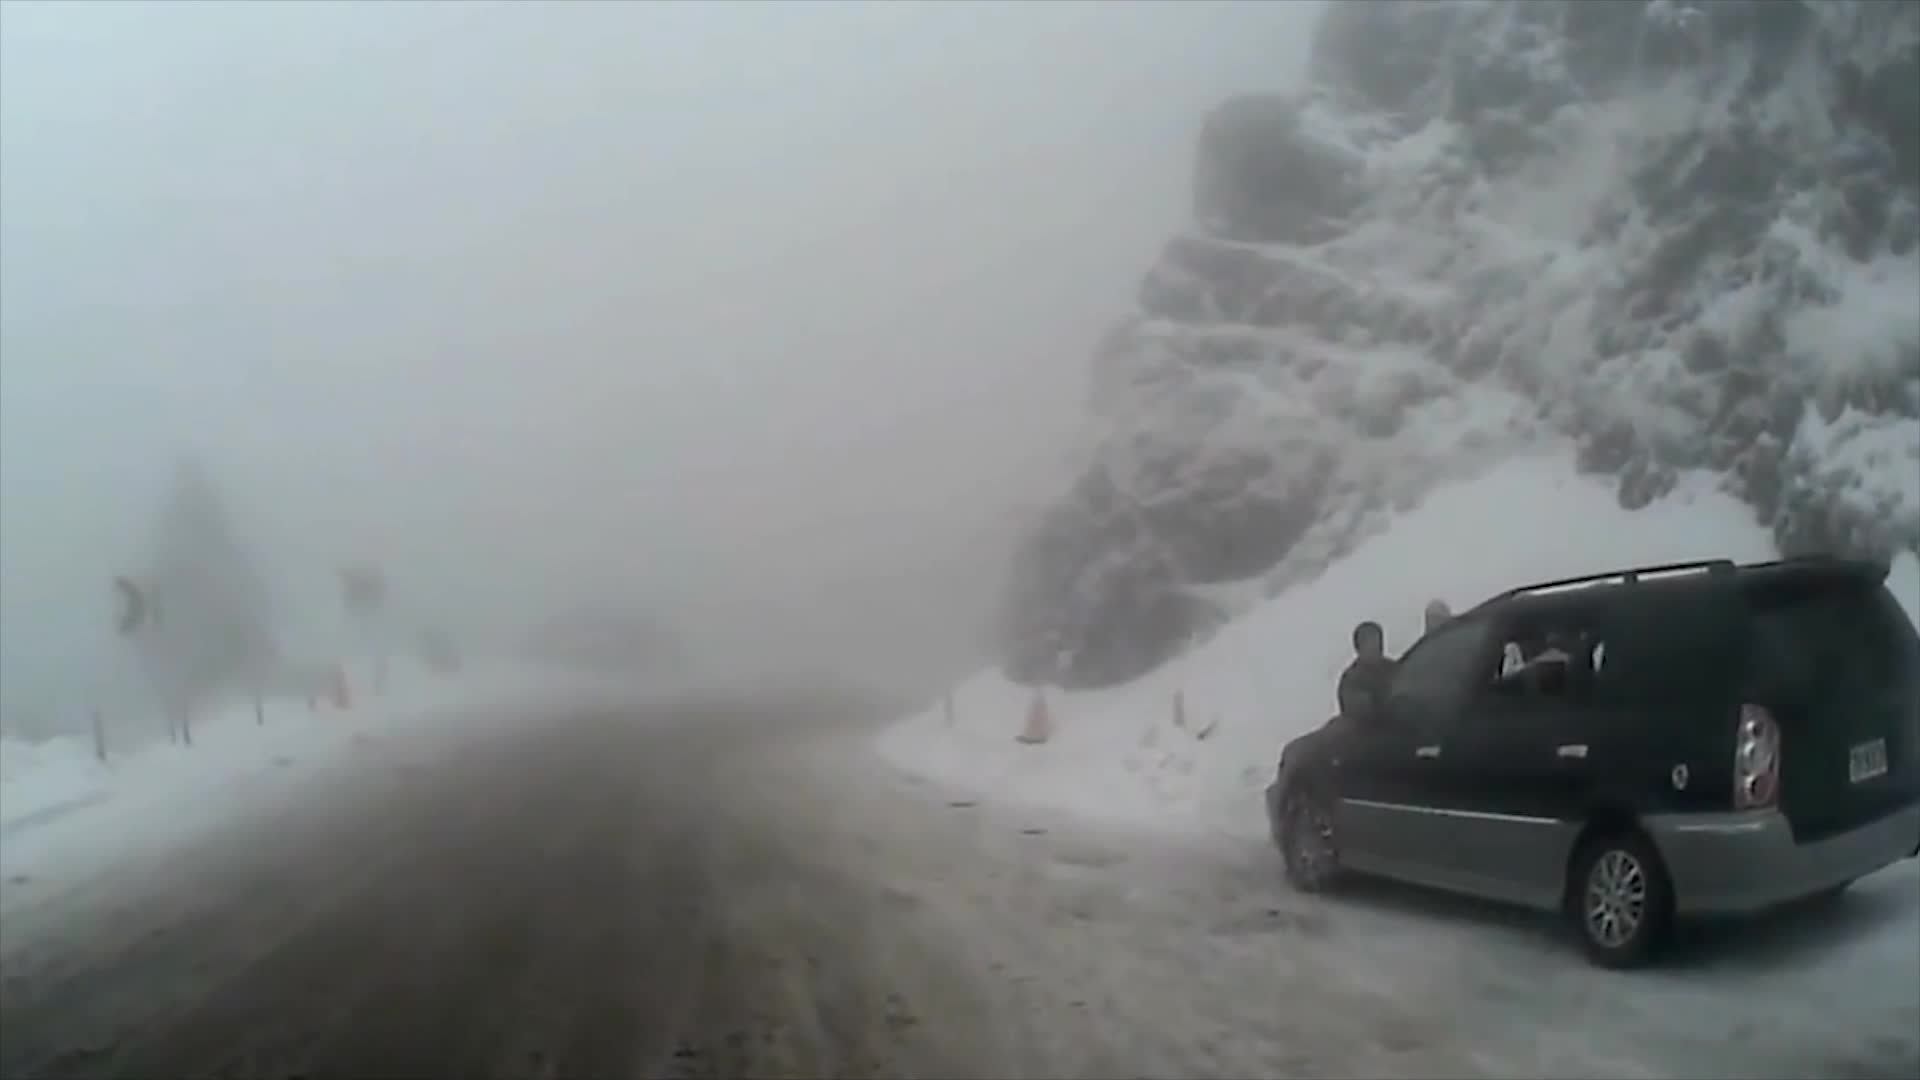pedestrian: (1333, 618, 1402, 855)
vehicle: (1262, 551, 1915, 974)
